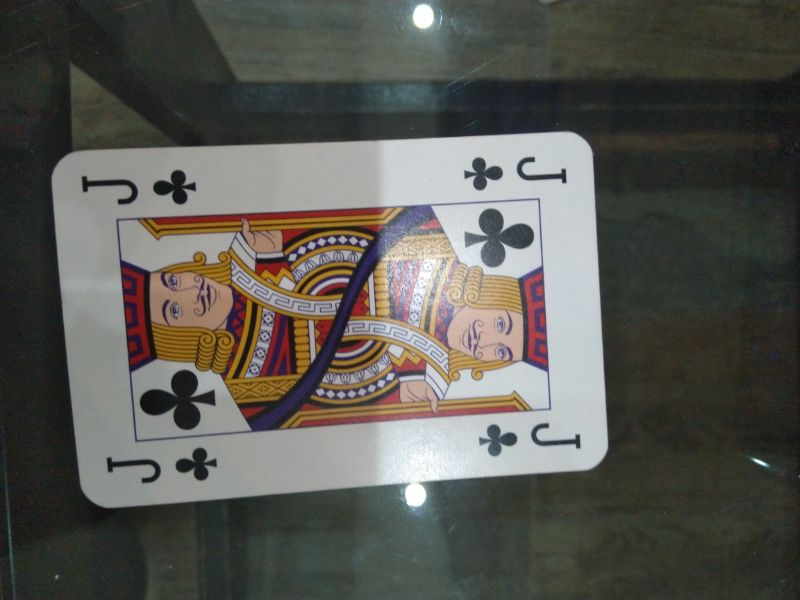Jc: (77, 164, 202, 211), (459, 151, 572, 194), (475, 420, 587, 460), (103, 448, 222, 484)
